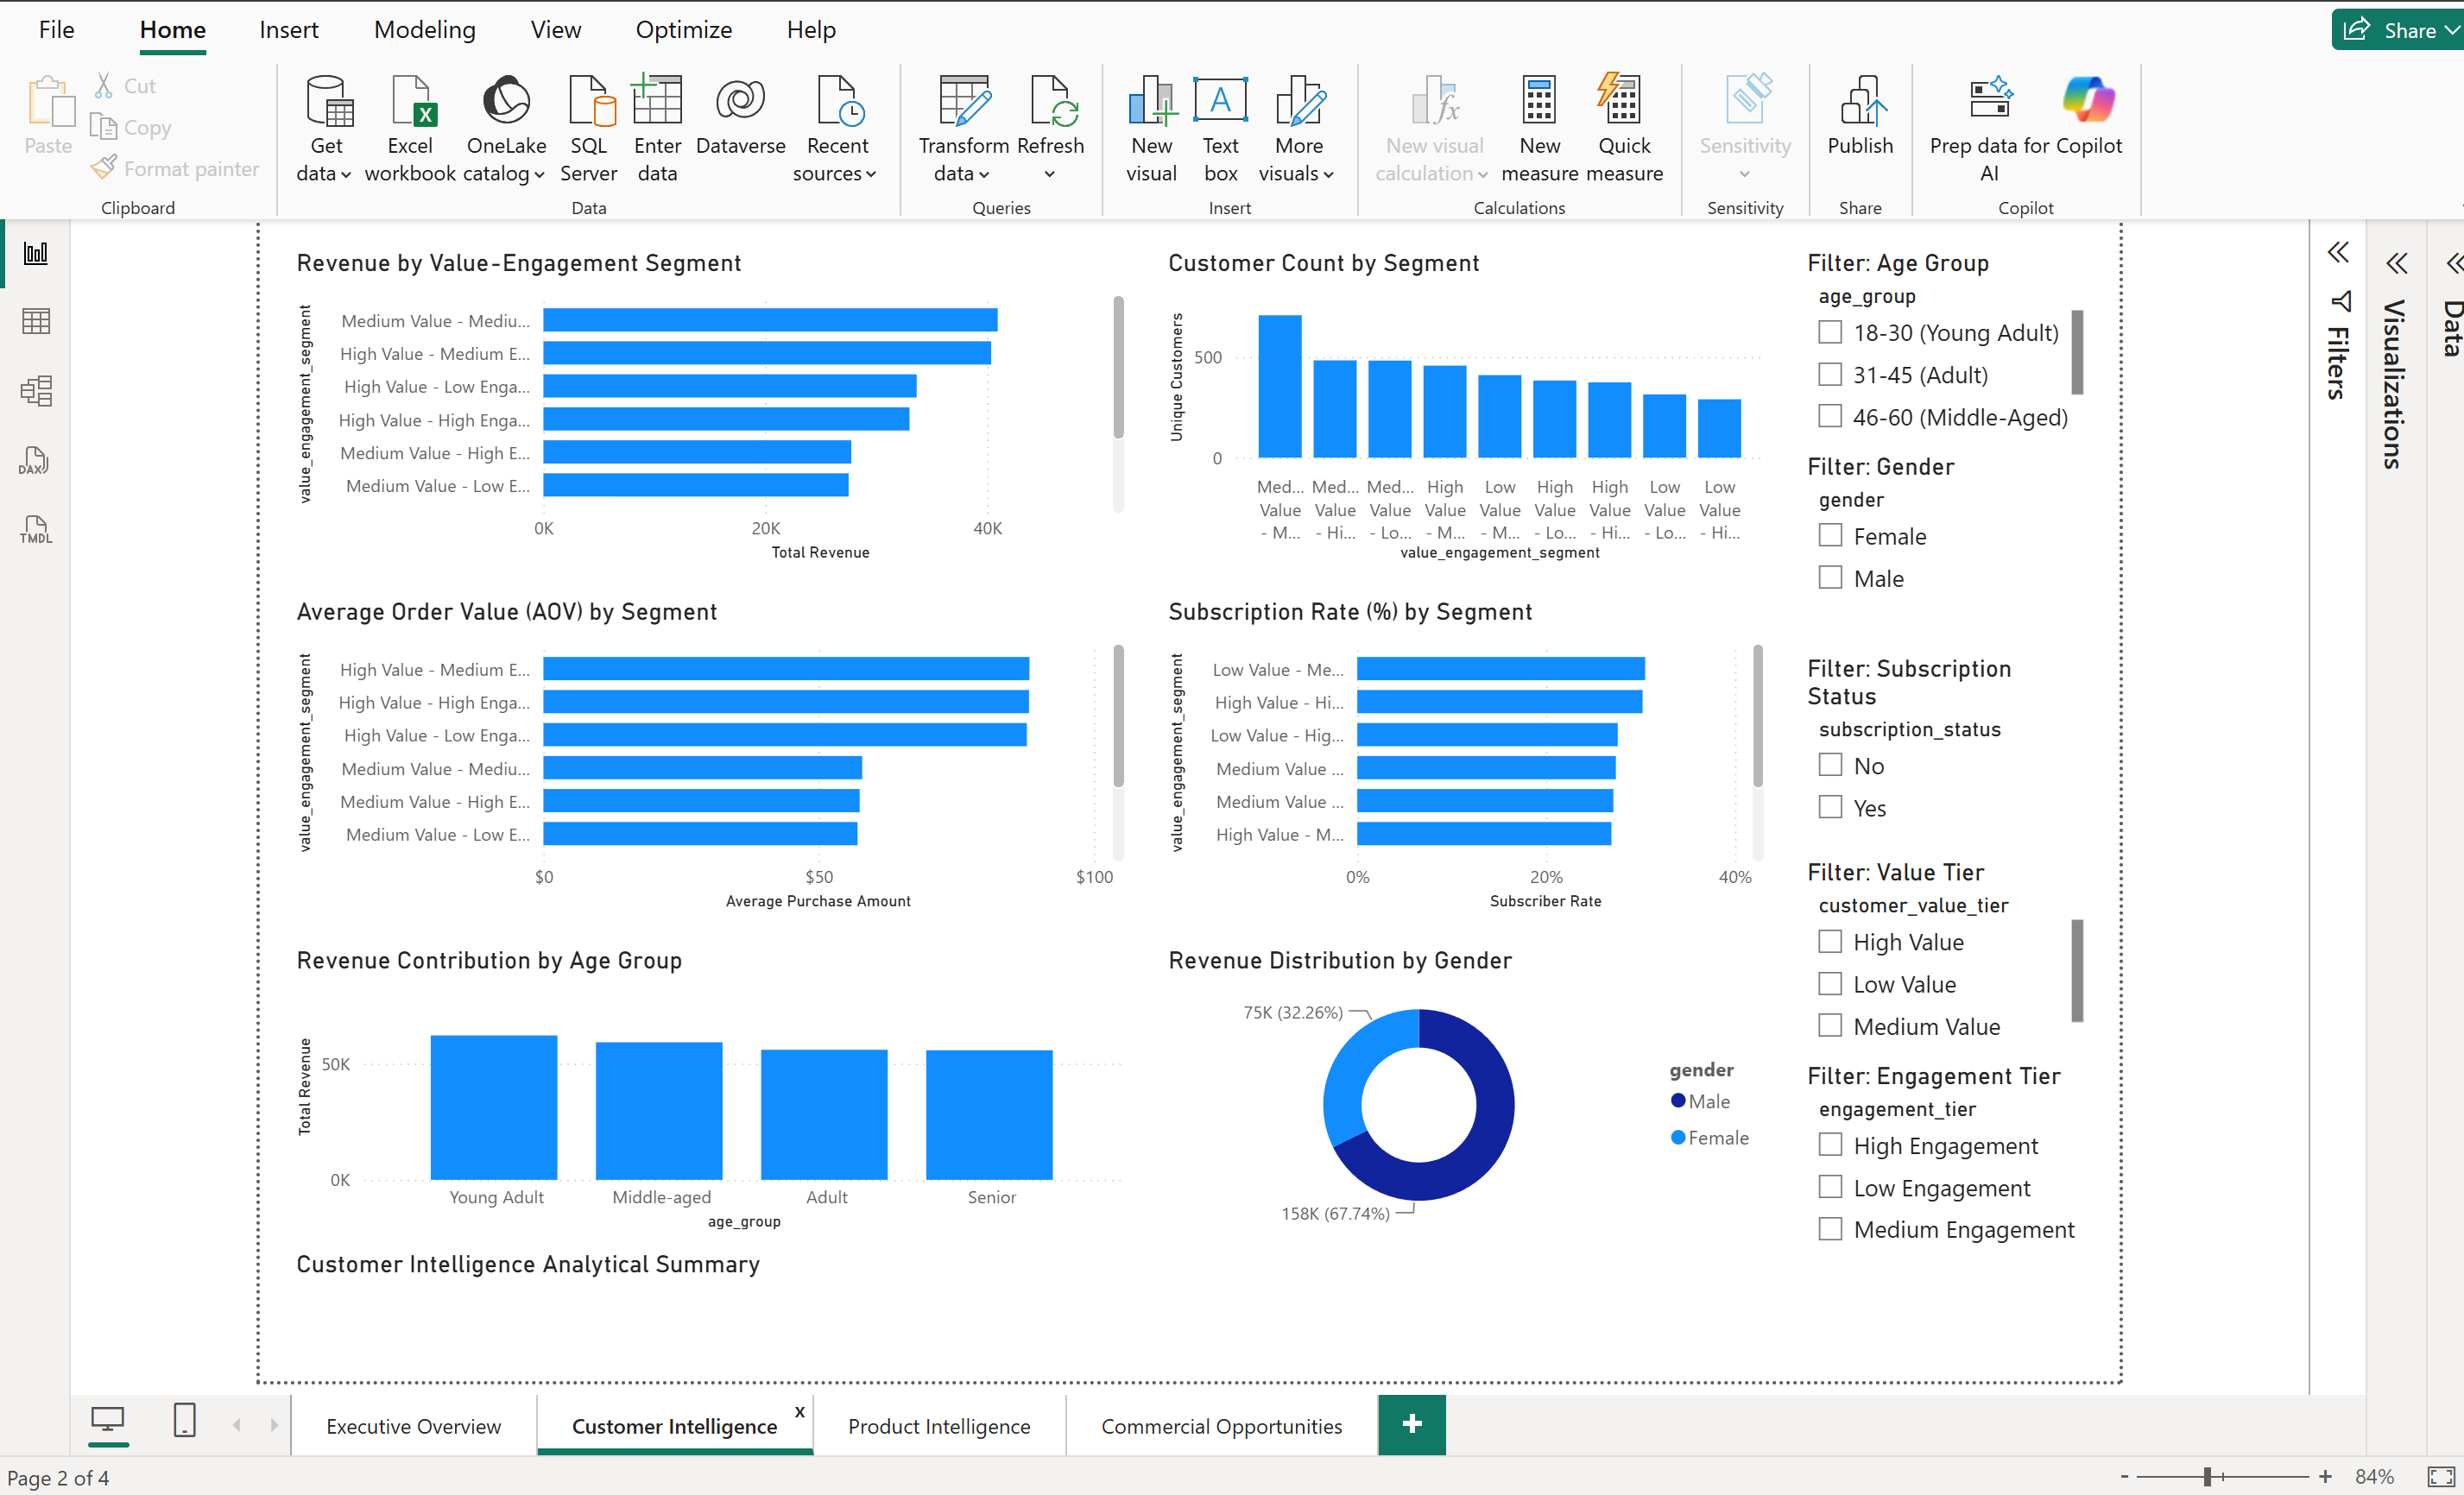

What the dashboard file says about the page in this screenshot:
{"tool":"powerbi","page":{"name":"Customer Intelligence","canvas":[1280,800],"ordinal":1},"visuals":[{"type":"barChart","title":"Revenue by Value-Engagement Segment","box":[20,20,580,220],"z":1000},{"type":"columnChart","title":"Customer Count by Segment","box":[620,20,420,220],"z":1000},{"type":"slicer","title":"Filter: Age Group","box":[1060,20,200,130],"z":1000},{"type":"slicer","title":"Filter: Gender","box":[1060,160,200,130],"z":1000},{"type":"barChart","title":"Average Order Value (AOV) by Segment","box":[20,260,580,220],"z":1000},{"type":"barChart","title":"Subscription Rate (%) by Segment","box":[620,260,420,220],"z":1000},{"type":"slicer","title":"Filter: Subscription Status","box":[1060,300,200,130],"z":1000},{"type":"slicer","title":"Filter: Value Tier","box":[1060,440,200,130],"z":1000},{"type":"columnChart","title":"Revenue Contribution by Age Group","box":[20,500,580,200],"z":1000},{"type":"donutChart","title":"Revenue Distribution by Gender","box":[620,500,420,200],"z":1000},{"type":"slicer","title":"Filter: Engagement Tier","box":[1060,580,200,120],"z":1000},{"type":"textbox","title":"Customer Intelligence Analytical Summary","box":[20,710,1240,80],"z":1000}]}

Visuals, with their boxes on the page's 1280x800 design canvas (x1, y1, x2, y2). These are canvas units, not pixel positions in the 2464x1495 screenshot, which may show the page scaled, cropped or inside an application window:
"Revenue by Value-Engagement Segment" barChart: detection(20, 20, 600, 240)
"Customer Count by Segment" columnChart: detection(620, 20, 1040, 240)
"Filter: Age Group" slicer: detection(1060, 20, 1260, 150)
"Filter: Gender" slicer: detection(1060, 160, 1260, 290)
"Average Order Value (AOV) by Segment" barChart: detection(20, 260, 600, 480)
"Subscription Rate (%) by Segment" barChart: detection(620, 260, 1040, 480)
"Filter: Subscription Status" slicer: detection(1060, 300, 1260, 430)
"Filter: Value Tier" slicer: detection(1060, 440, 1260, 570)
"Revenue Contribution by Age Group" columnChart: detection(20, 500, 600, 700)
"Revenue Distribution by Gender" donutChart: detection(620, 500, 1040, 700)
"Filter: Engagement Tier" slicer: detection(1060, 580, 1260, 700)
"Customer Intelligence Analytical Summary" textbox: detection(20, 710, 1260, 790)
